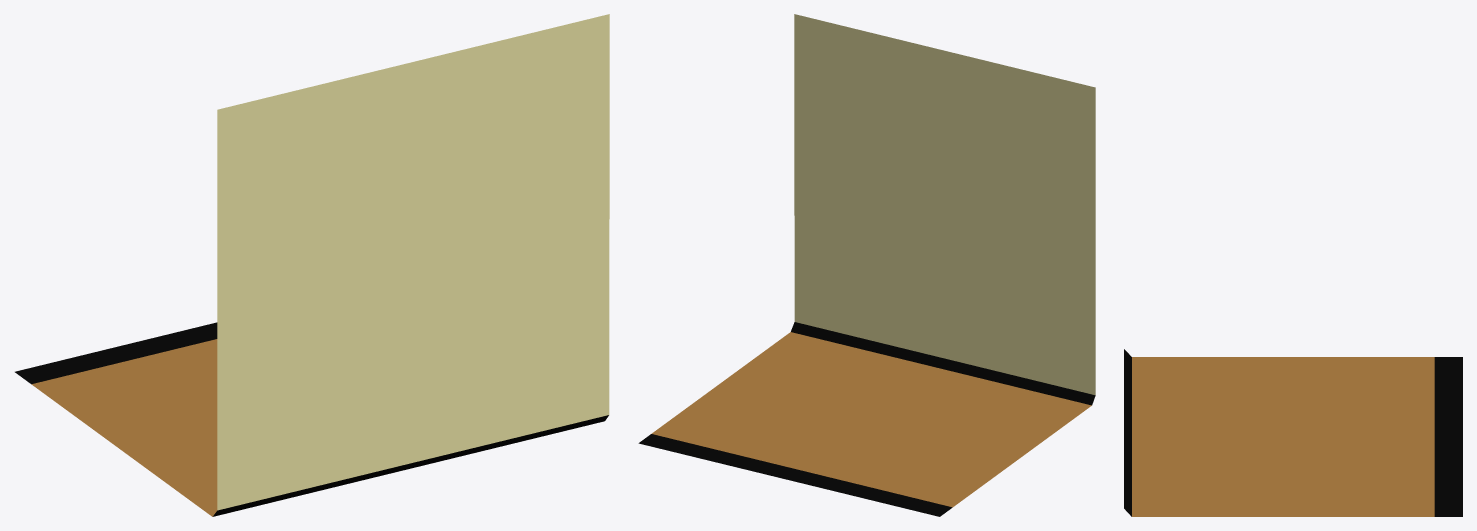
The model's file is Cuerpo_1_Lados.fbx.
The picture shows the model from 3 angles, left to right: view 1: azimuth 30°, elevation 25°; view 2: azimuth 150°, elevation 25°; view 3: azimuth 270°, elevation 25°; orthographic projection. The views are drawn at different scales.
Parts seen in each view (by area): view 1: Cuerpo_1Lados; view 2: Cuerpo_1Lados; view 3: Cuerpo_1Lados.
Boxes of the visible parts, x1,y1,x2,y2 form: Cuerpo_1Lados: (15,14,609,516); Cuerpo_1Lados: (638,14,1095,516); Cuerpo_1Lados: (1124,349,1462,516).
Size of the model in its own units: 400 by 400 by 358.
